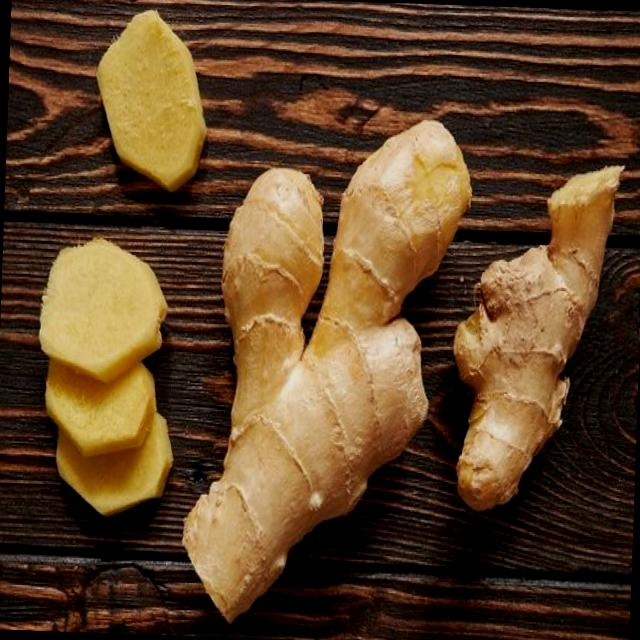ginger-root: (154, 36, 503, 636)
